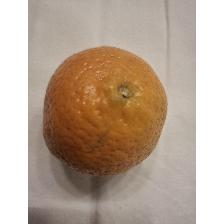Mandarine: (40, 43, 168, 179)
